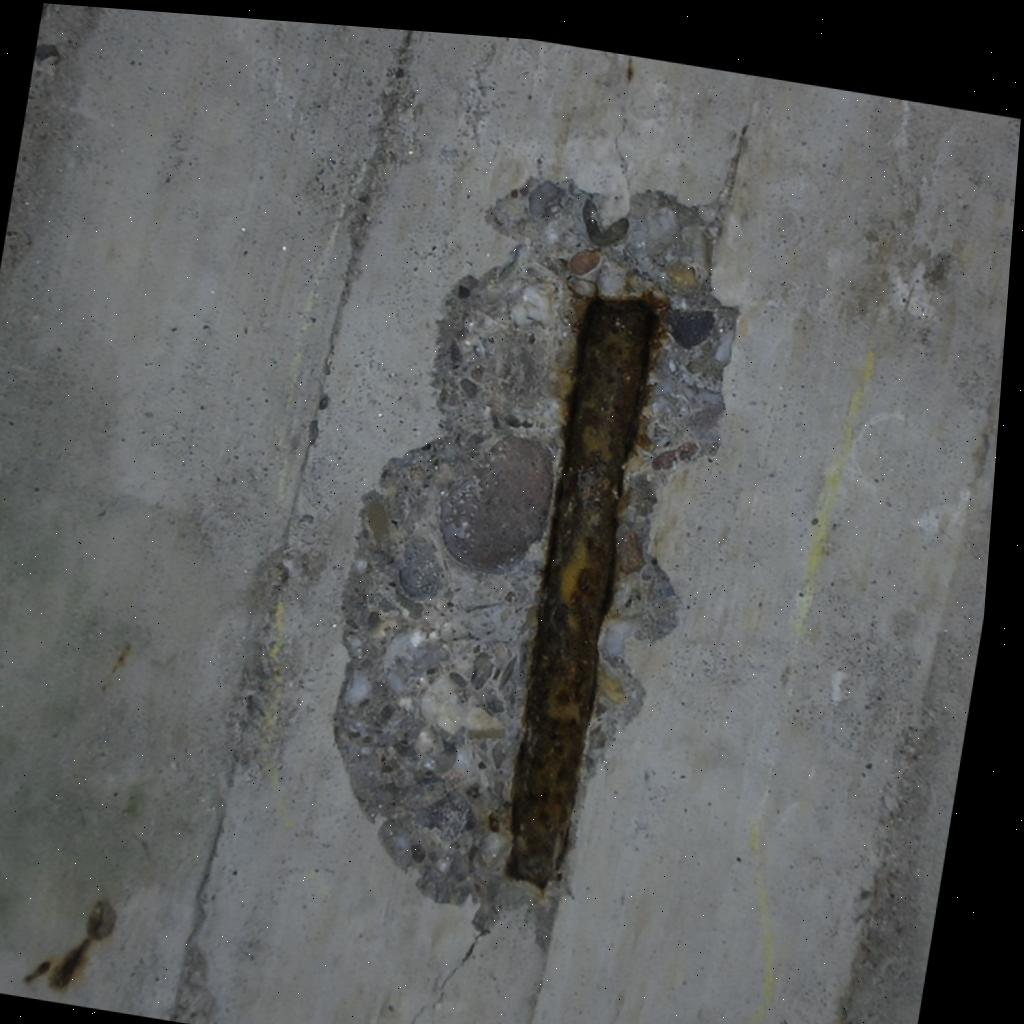exposed_rebar: (505, 298, 656, 887)
spalling: (334, 180, 736, 944)
